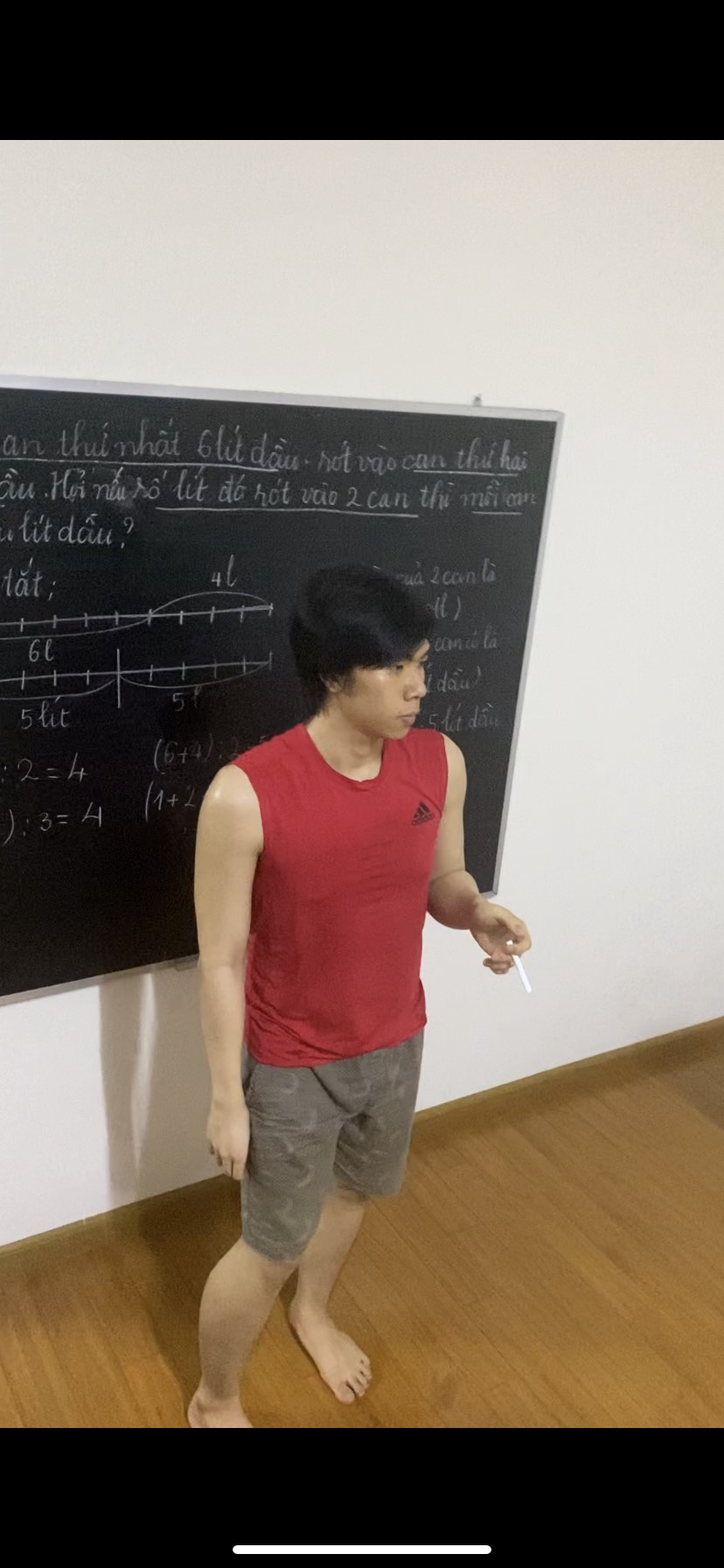cigarette: (509, 953, 535, 999)
person: (177, 554, 533, 1429)
